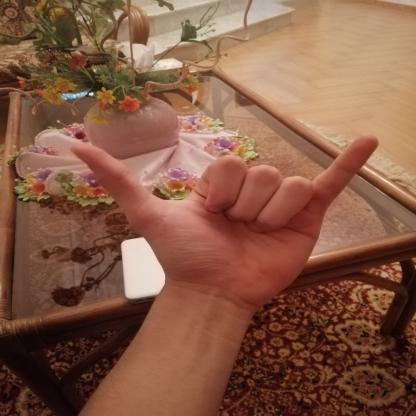YA: (48, 126, 397, 315)
